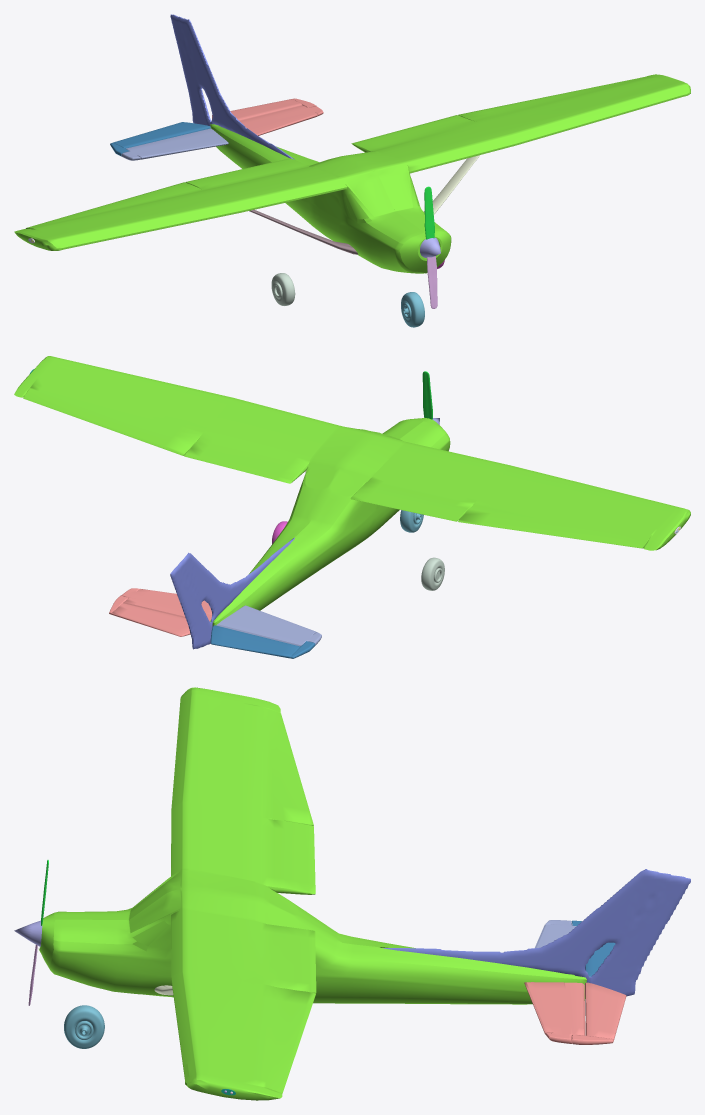
3 views of the same model, one above another, from view 1: azimuth 30°, elevation 25°; view 2: azimuth 150°, elevation 25°; view 3: azimuth 270°, elevation 25° (orthographic). The views are drawn at different scales.
Visible parts, largest first — view 1: split_parent_0, pasted__Plane_152_LOD_4_standardSurface1_0.615, split_parent_18, split_parent_12, pasted__Plane_152_LOD_4_standardSurface1_0.1077, pasted__Plane_152_LOD_4_standardSurface1_0.1016, pasted__Plane_152_LOD_4_standardSurface1_0.965, pasted__Plane_152_LOD_4_standardSurface1_0.671, pasted__Plane_152_LOD_4_standardSurface1_0.458, pasted__Plane_152_LOD_4_standardSurface1_0.768; view 2: split_parent_0, pasted__Plane_152_LOD_4_standardSurface1_0.615, split_parent_18, split_parent_12, pasted__Plane_152_LOD_4_standardSurface1_0.1077, pasted__Plane_152_LOD_4_standardSurface1_0.965; view 3: split_parent_0, pasted__Plane_152_LOD_4_standardSurface1_0.615, split_parent_18, pasted__Plane_152_LOD_4_standardSurface1_0.1016, split_parent_12.
Part boxes in pixels (x1,y1,x2,y2): split_parent_0: (14,74,690,273); pasted__Plane_152_LOD_4_standardSurface1_0.615: (170,14,294,159); split_parent_18: (212,98,323,135); split_parent_12: (121,128,228,160); pasted__Plane_152_LOD_4_standardSurface1_0.1077: (110,122,210,156); pasted__Plane_152_LOD_4_standardSurface1_0.1016: (401,292,424,327); pasted__Plane_152_LOD_4_standardSurface1_0.965: (271,273,295,305); pasted__Plane_152_LOD_4_standardSurface1_0.671: (424,155,479,214); pasted__Plane_152_LOD_4_standardSurface1_0.458: (249,209,358,254); pasted__Plane_152_LOD_4_standardSurface1_0.768: (424,186,434,239); split_parent_0: (14,356,690,626); pasted__Plane_152_LOD_4_standardSurface1_0.615: (170,537,294,649); split_parent_18: (109,588,211,636); split_parent_12: (216,605,321,646); pasted__Plane_152_LOD_4_standardSurface1_0.1077: (210,625,315,658); pasted__Plane_152_LOD_4_standardSurface1_0.965: (421,557,444,590); split_parent_0: (39,687,586,1100); pasted__Plane_152_LOD_4_standardSurface1_0.615: (383,869,690,996); split_parent_18: (524,982,626,1044); pasted__Plane_152_LOD_4_standardSurface1_0.1016: (64,1005,104,1048); split_parent_12: (535,920,576,947).
Bounding box in the file's own units: 1 × 0.2204 × 0.7207.
